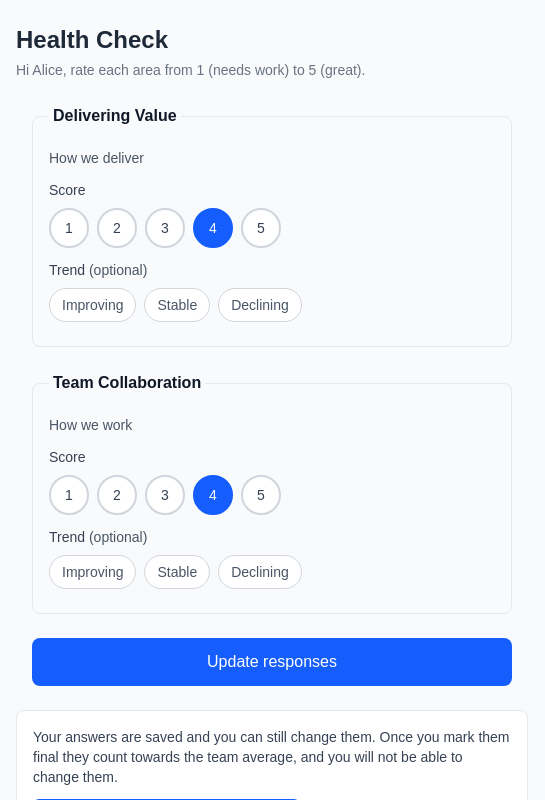
Test case: a member who answered on an earlier visit › is told their answers were updated, not saved for the first time
expect the element "Delivering Value" is shown: met, box [32,104,512,347]
Click the radio button labelled "2" below "How we deliver" at (117, 228), box [97,208,137,248]
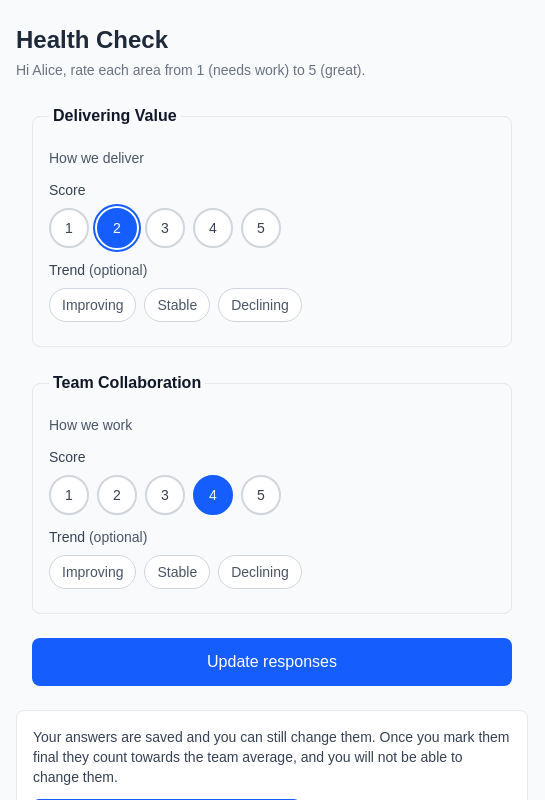
Click the button "Update responses" at (272, 662), box [32,638,512,686]
(page scrolled)
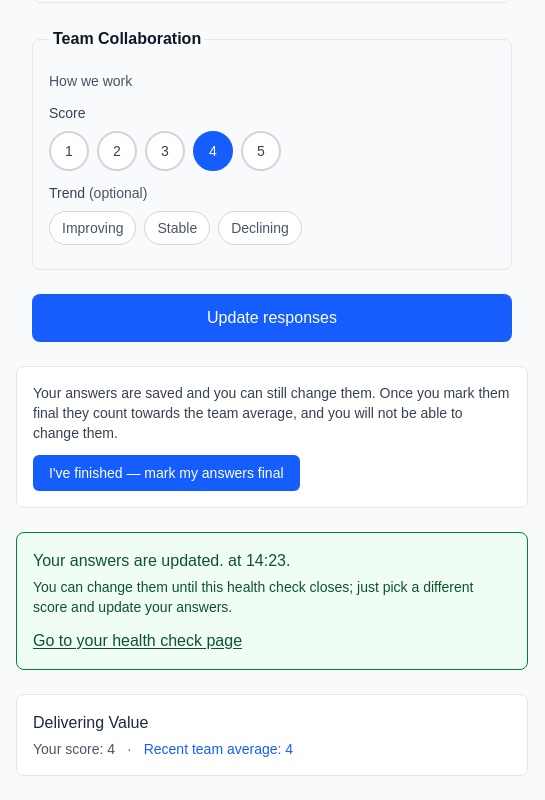
expect the message shows "updated": met, box [33,552,224,569]
